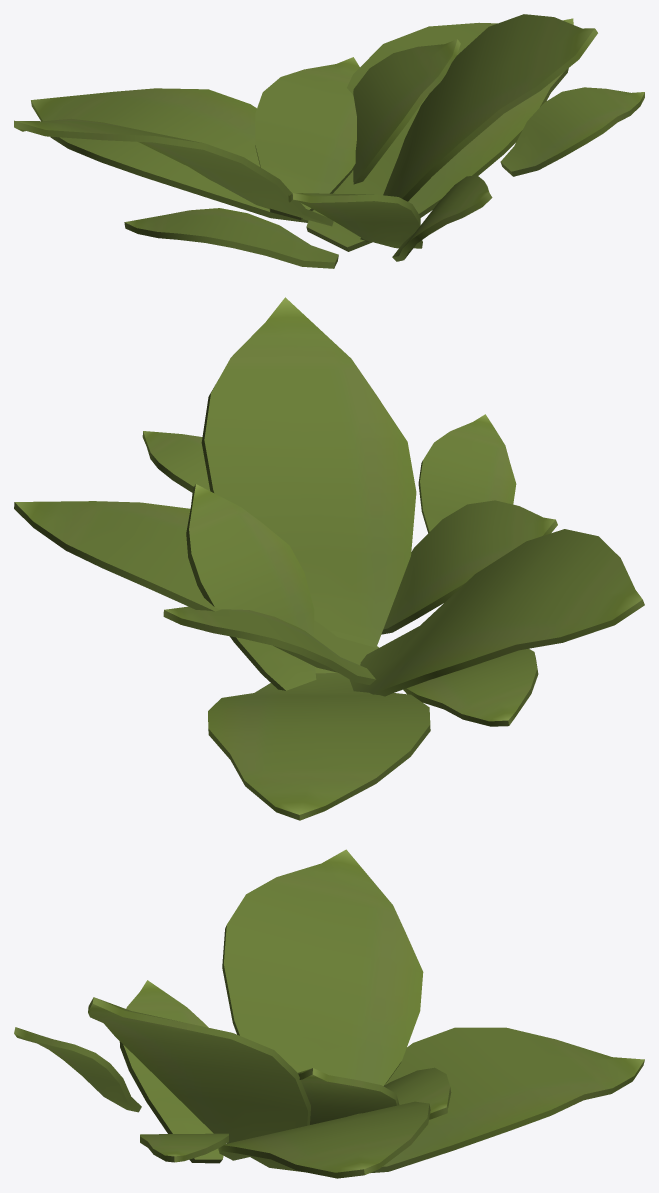
Rendered from FolhasDino.glb.
3 views of the same model, one above another, from view 1: azimuth 30°, elevation 25°; view 2: azimuth 150°, elevation 25°; view 3: azimuth 270°, elevation 25° (orthographic). The views are drawn at different scales.
Parts seen in each view (by area): view 1: FolhasDino; view 2: FolhasDino; view 3: FolhasDino.
Part boxes in pixels (bbox=[...]): FolhasDino: bbox=[14, 14, 644, 268]; FolhasDino: bbox=[14, 297, 644, 820]; FolhasDino: bbox=[14, 849, 644, 1178].
Size of the model in its own units: 1.99 by 0.8277 by 1.91.
Materials: 1 (1 with a texture image).
